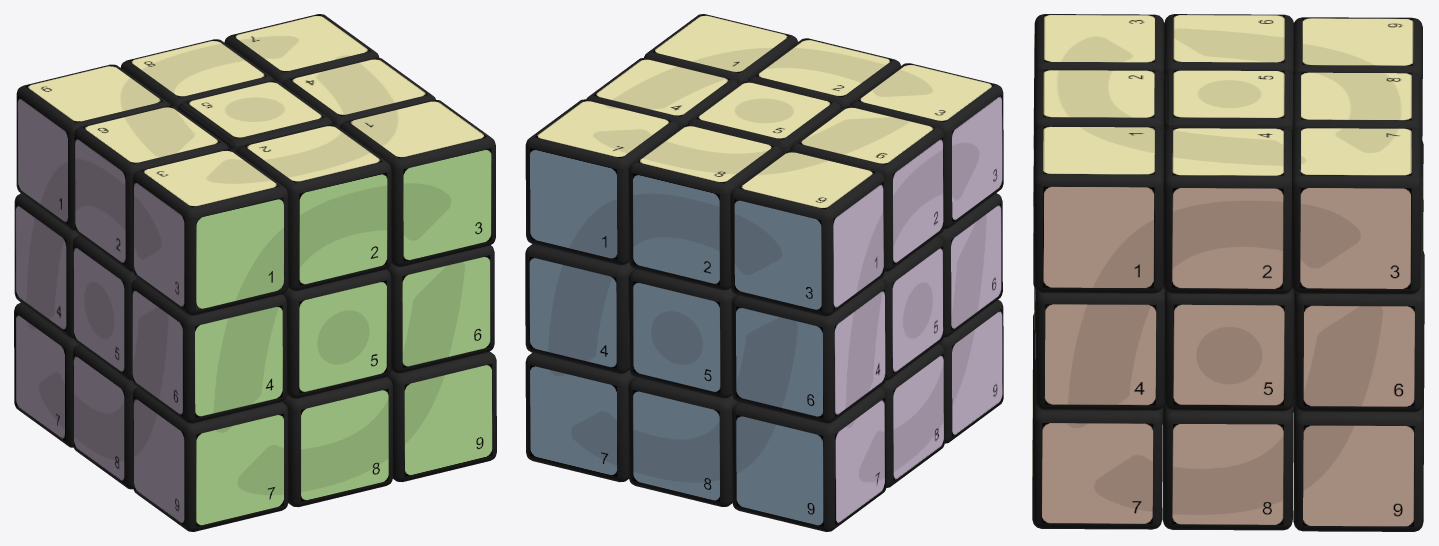
The model's file is Rubix_cube_animation_test.glb.
3 renders of one model, left to right at view 1: azimuth 30°, elevation 25°; view 2: azimuth 150°, elevation 25°; view 3: azimuth 270°, elevation 25°, orthographic. The views are drawn at different scales.
Visible parts, largest first — view 1: s3_block_3, s3_block_9, s3_block_6, s3_block_2, s3_block_5, s3_block_8, s3_block_7, s3_block_4, s3_block_1, top_block_3, s4_block_1, s4_block_6 (+34 smaller); view 2: s1_block_9, s1_block_4, s1_block_3, s1_block_5, s1_block_1, s1_block_7, s1_block_6, s1_block_8, s1_block_2, top_block_9, s4_block_7, s4_block_6 (+34 smaller); view 3: s2_block_1, s2_block_5, s2_block_9, s2_block_3, s2_block_8, s2_block_2, s2_block_6, s2_block_4, s2_block_7, top_block_1, top_block_7, top_block_4 (+21 smaller).
Boxes of the visible parts, left/top/right/bottom form: s3_block_3: left=403, top=148, right=491, bottom=261; s3_block_9: left=404, top=364, right=492, bottom=476; s3_block_6: left=402, top=255, right=490, bottom=367; s3_block_2: left=299, top=172, right=387, bottom=285; s3_block_5: left=299, top=280, right=387, bottom=393; s3_block_8: left=301, top=388, right=388, bottom=501; s3_block_7: left=196, top=413, right=283, bottom=526; s3_block_4: left=195, top=305, right=282, bottom=417; s3_block_1: left=196, top=199, right=283, bottom=308; top_block_3: left=132, top=149, right=288, bottom=315; s4_block_1: left=17, top=96, right=68, bottom=223; s4_block_6: left=132, top=289, right=183, bottom=416; s1_block_9: left=736, top=415, right=823, bottom=526; s1_block_4: left=529, top=257, right=616, bottom=368; s1_block_3: left=734, top=199, right=821, bottom=310; s1_block_5: left=633, top=281, right=720, bottom=392; s1_block_1: left=530, top=148, right=617, bottom=259; s1_block_7: left=530, top=365, right=617, bottom=476; s1_block_6: left=736, top=306, right=823, bottom=418; s1_block_8: left=632, top=390, right=719, bottom=501; s1_block_2: left=632, top=173, right=719, bottom=284; top_block_9: left=730, top=150, right=884, bottom=316; s4_block_7: left=835, top=397, right=885, bottom=524; s4_block_6: left=951, top=203, right=1001, bottom=330; s2_block_1: left=1042, top=186, right=1154, bottom=288; s2_block_5: left=1173, top=304, right=1284, bottom=405; s2_block_9: left=1303, top=425, right=1414, bottom=526; s2_block_3: left=1300, top=188, right=1411, bottom=288; s2_block_8: left=1172, top=424, right=1283, bottom=524; s2_block_2: left=1172, top=188, right=1283, bottom=288; s2_block_6: left=1303, top=305, right=1414, bottom=406; s2_block_4: left=1044, top=304, right=1156, bottom=405; s2_block_7: left=1041, top=423, right=1153, bottom=523; top_block_1: left=1033, top=126, right=1163, bottom=293; top_block_7: left=1291, top=127, right=1421, bottom=294; top_block_4: left=1163, top=127, right=1292, bottom=294.
Size of the model in its own units: 6.07 by 6.09 by 6.04.
9 materials, 8 textured.
